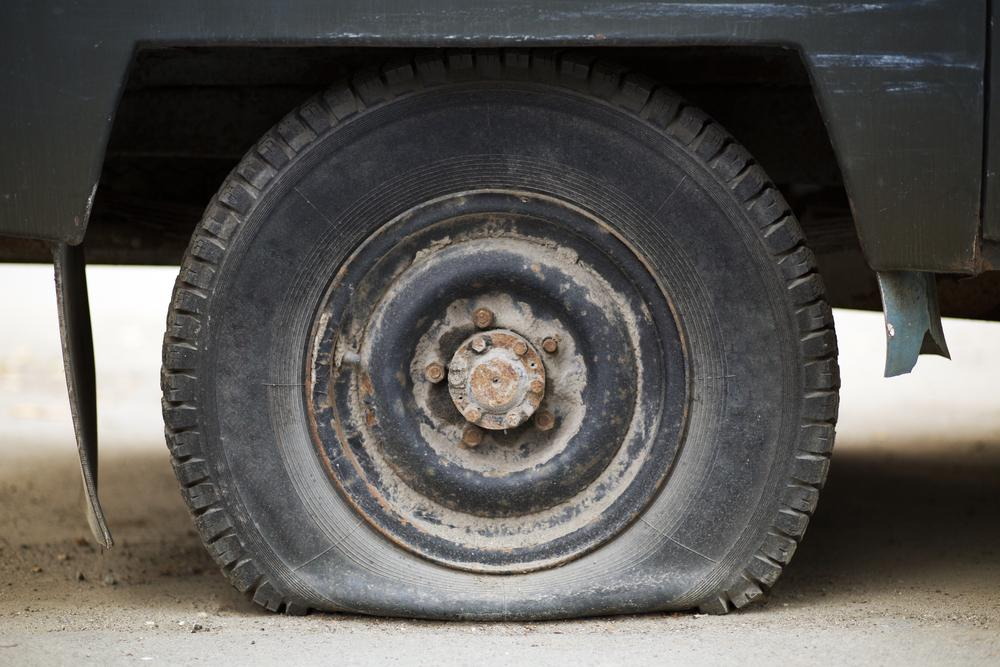tire flat: (156, 49, 837, 624)
